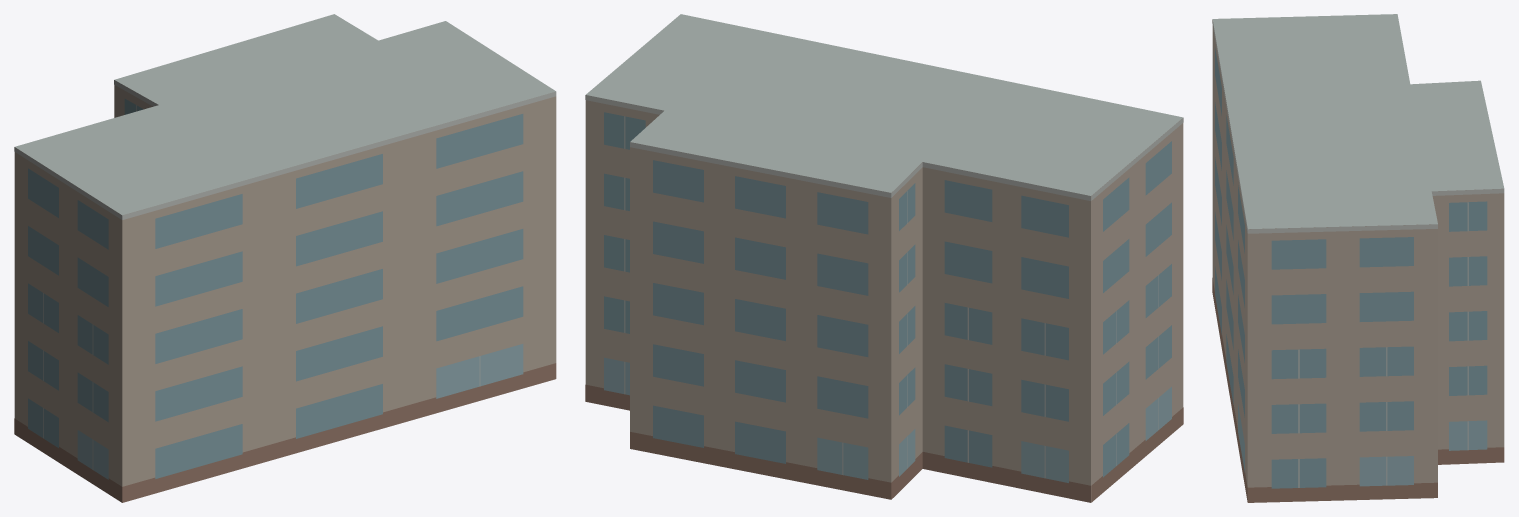
Rendered from survey-upis-32937486.glb.
3 views of the same model, side by side, from view 1: azimuth 30°, elevation 25°; view 2: azimuth 150°, elevation 25°; view 3: azimuth 270°, elevation 25° (orthographic). The views are drawn at different scales.
Visible parts, largest first — view 1: survey-upis-32937486.tmp; view 2: survey-upis-32937486.tmp; view 3: survey-upis-32937486.tmp.
Boxes of the visible parts, box(x1,y1,x2,y2) form: survey-upis-32937486.tmp: box(14, 14, 556, 502); survey-upis-32937486.tmp: box(585, 14, 1183, 502); survey-upis-32937486.tmp: box(1212, 14, 1504, 502).
Size of the model in its own units: 24.45 by 14.5 by 14.02.
